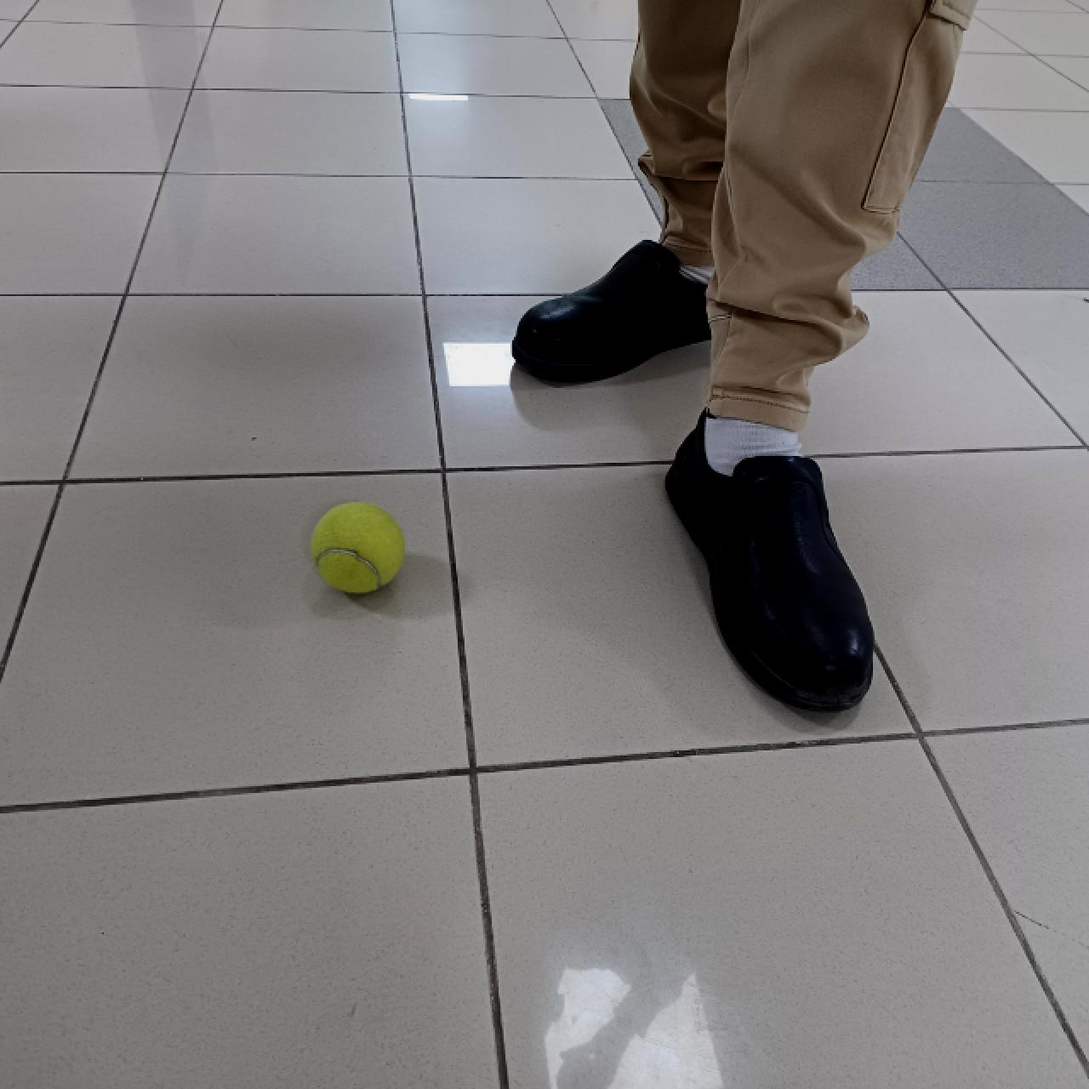tennis-ball: (309, 500, 404, 595)
